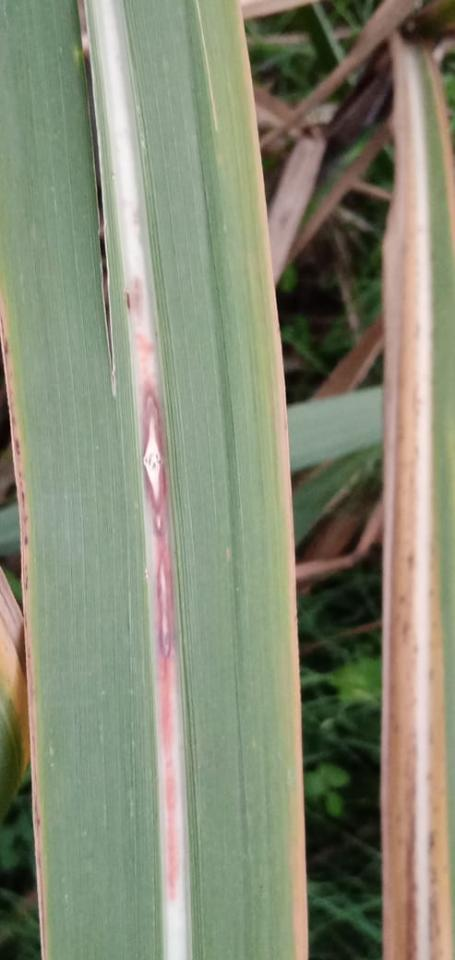RedRot: (136, 334, 178, 902), (125, 277, 143, 322)
Yellow: (229, 0, 308, 959), (0, 268, 53, 959), (384, 45, 419, 959), (429, 453, 454, 959), (425, 50, 454, 267)
